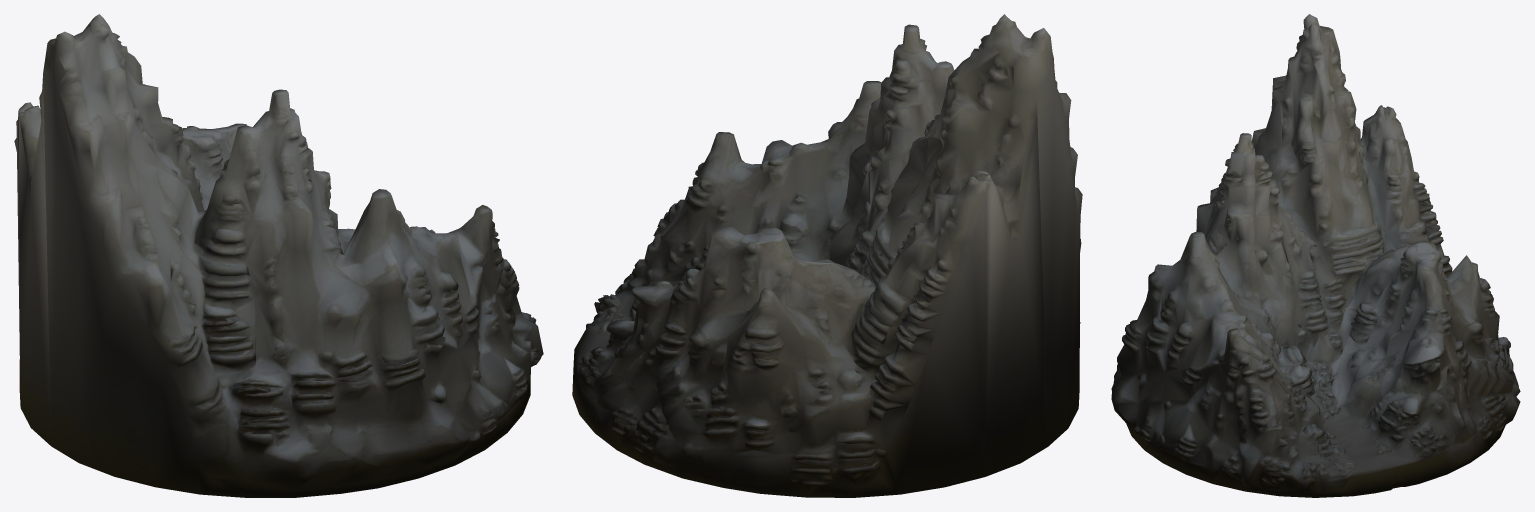
The model's file is VAL_Capital_Environment_Mountain_D.glb.
3 views of the same model, side by side, from view 1: azimuth 30°, elevation 25°; view 2: azimuth 150°, elevation 25°; view 3: azimuth 270°, elevation 25° (orthographic). The views are drawn at different scales.
Visible parts, largest first — view 1: tripo_node_6ffe7ffb-6c99-4d19-b339-85e1e388754b; view 2: tripo_node_6ffe7ffb-6c99-4d19-b339-85e1e388754b; view 3: tripo_node_6ffe7ffb-6c99-4d19-b339-85e1e388754b.
Part boxes in pixels (x1,y1,x2,y2): tripo_node_6ffe7ffb-6c99-4d19-b339-85e1e388754b: (14,14,543,497); tripo_node_6ffe7ffb-6c99-4d19-b339-85e1e388754b: (572,14,1082,497); tripo_node_6ffe7ffb-6c99-4d19-b339-85e1e388754b: (1111,14,1520,497).
Bounding box in the file's own units: 0.998 × 0.873 × 0.998.
Materials: 1 (1 with a texture image).
